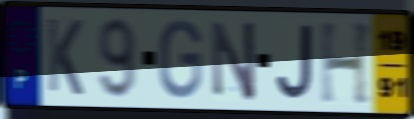9: (96, 16, 138, 101)
G: (157, 18, 204, 101)
H: (318, 20, 376, 107)
J: (274, 22, 315, 102)
K: (45, 15, 85, 99)
N: (209, 19, 258, 104)
